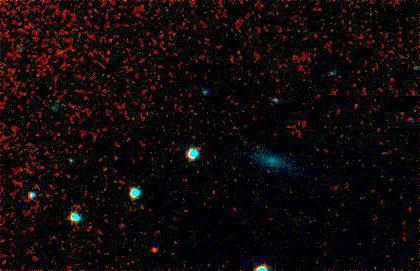star: (142, 234, 172, 264)
